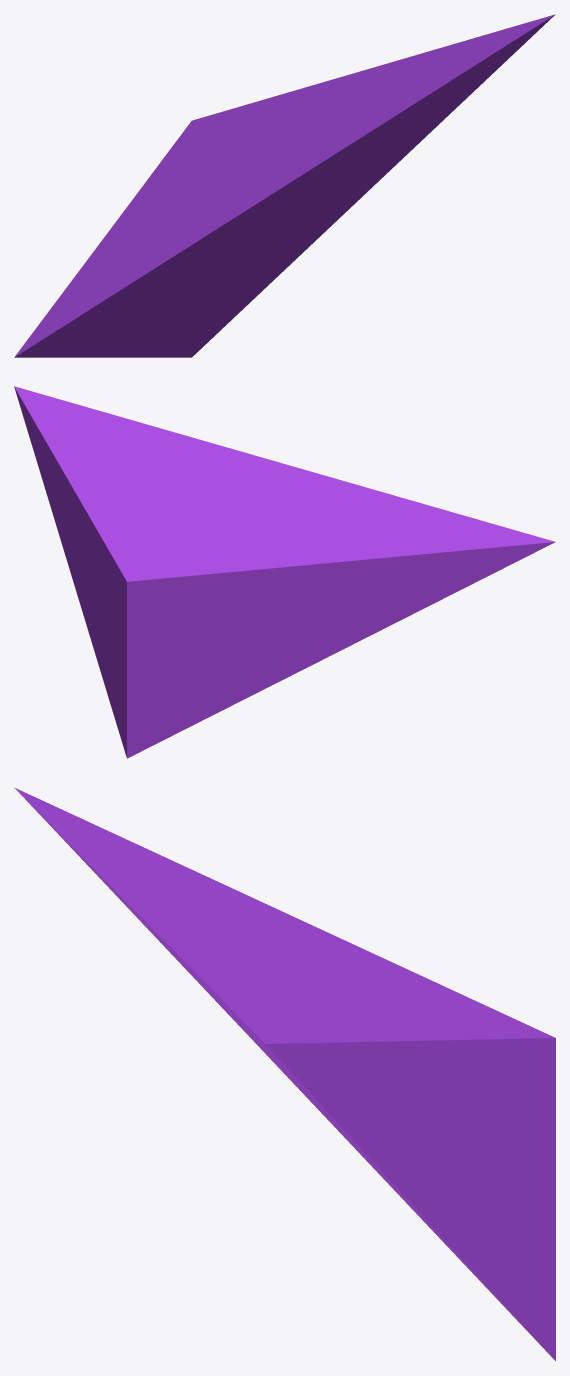
The model's file is Glass_100_1_4_chunks.fbx.
The picture shows the model from 3 angles, top to bottom: view 1: azimuth 30°, elevation 25°; view 2: azimuth 150°, elevation 25°; view 3: azimuth 270°, elevation 25°; orthographic projection. The views are drawn at different scales.
Visible parts, largest first — view 1: Glass_100_1_4_0; view 2: Glass_100_1_4_0; view 3: Glass_100_1_4_0.
Boxes of the visible parts, x1,y1,x2,y2 form: Glass_100_1_4_0: (14,14,555,357); Glass_100_1_4_0: (14,386,555,758); Glass_100_1_4_0: (14,787,555,1360).
Bounding box in the file's own units: 28.08 × 15.17 × 15.23.
